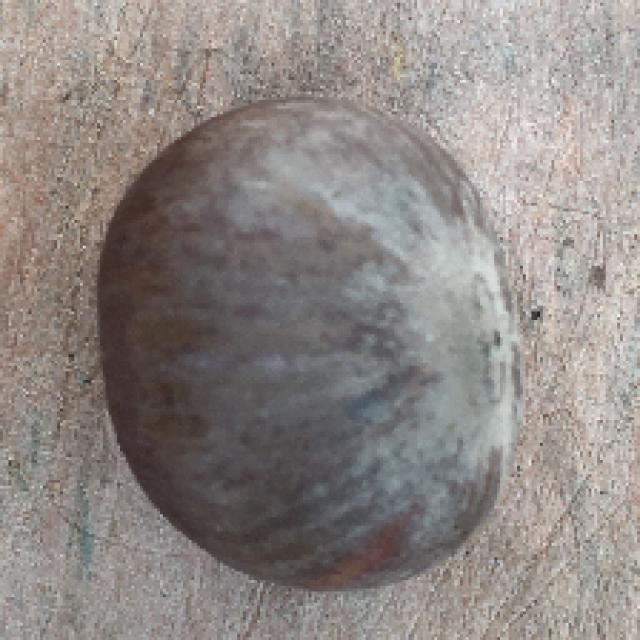qualityHazelnut: (103, 86, 521, 589)
